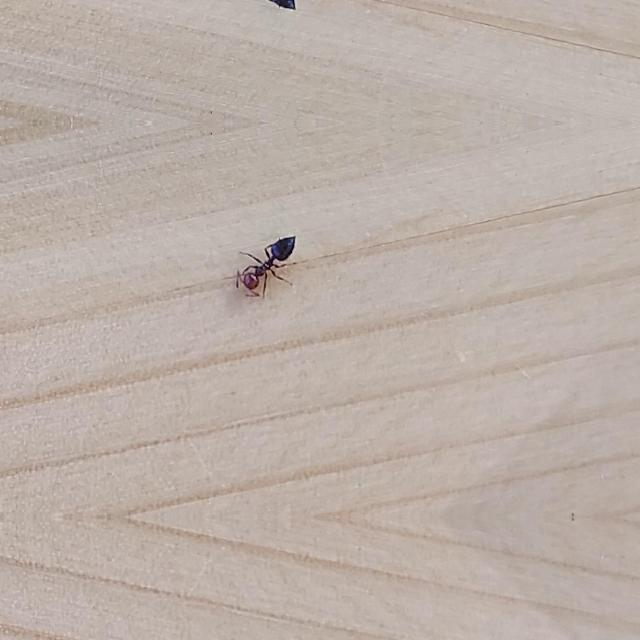Crematogaster: (224, 229, 302, 297), (224, 0, 301, 15)
